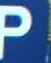Parking: (1, 0, 34, 61)
